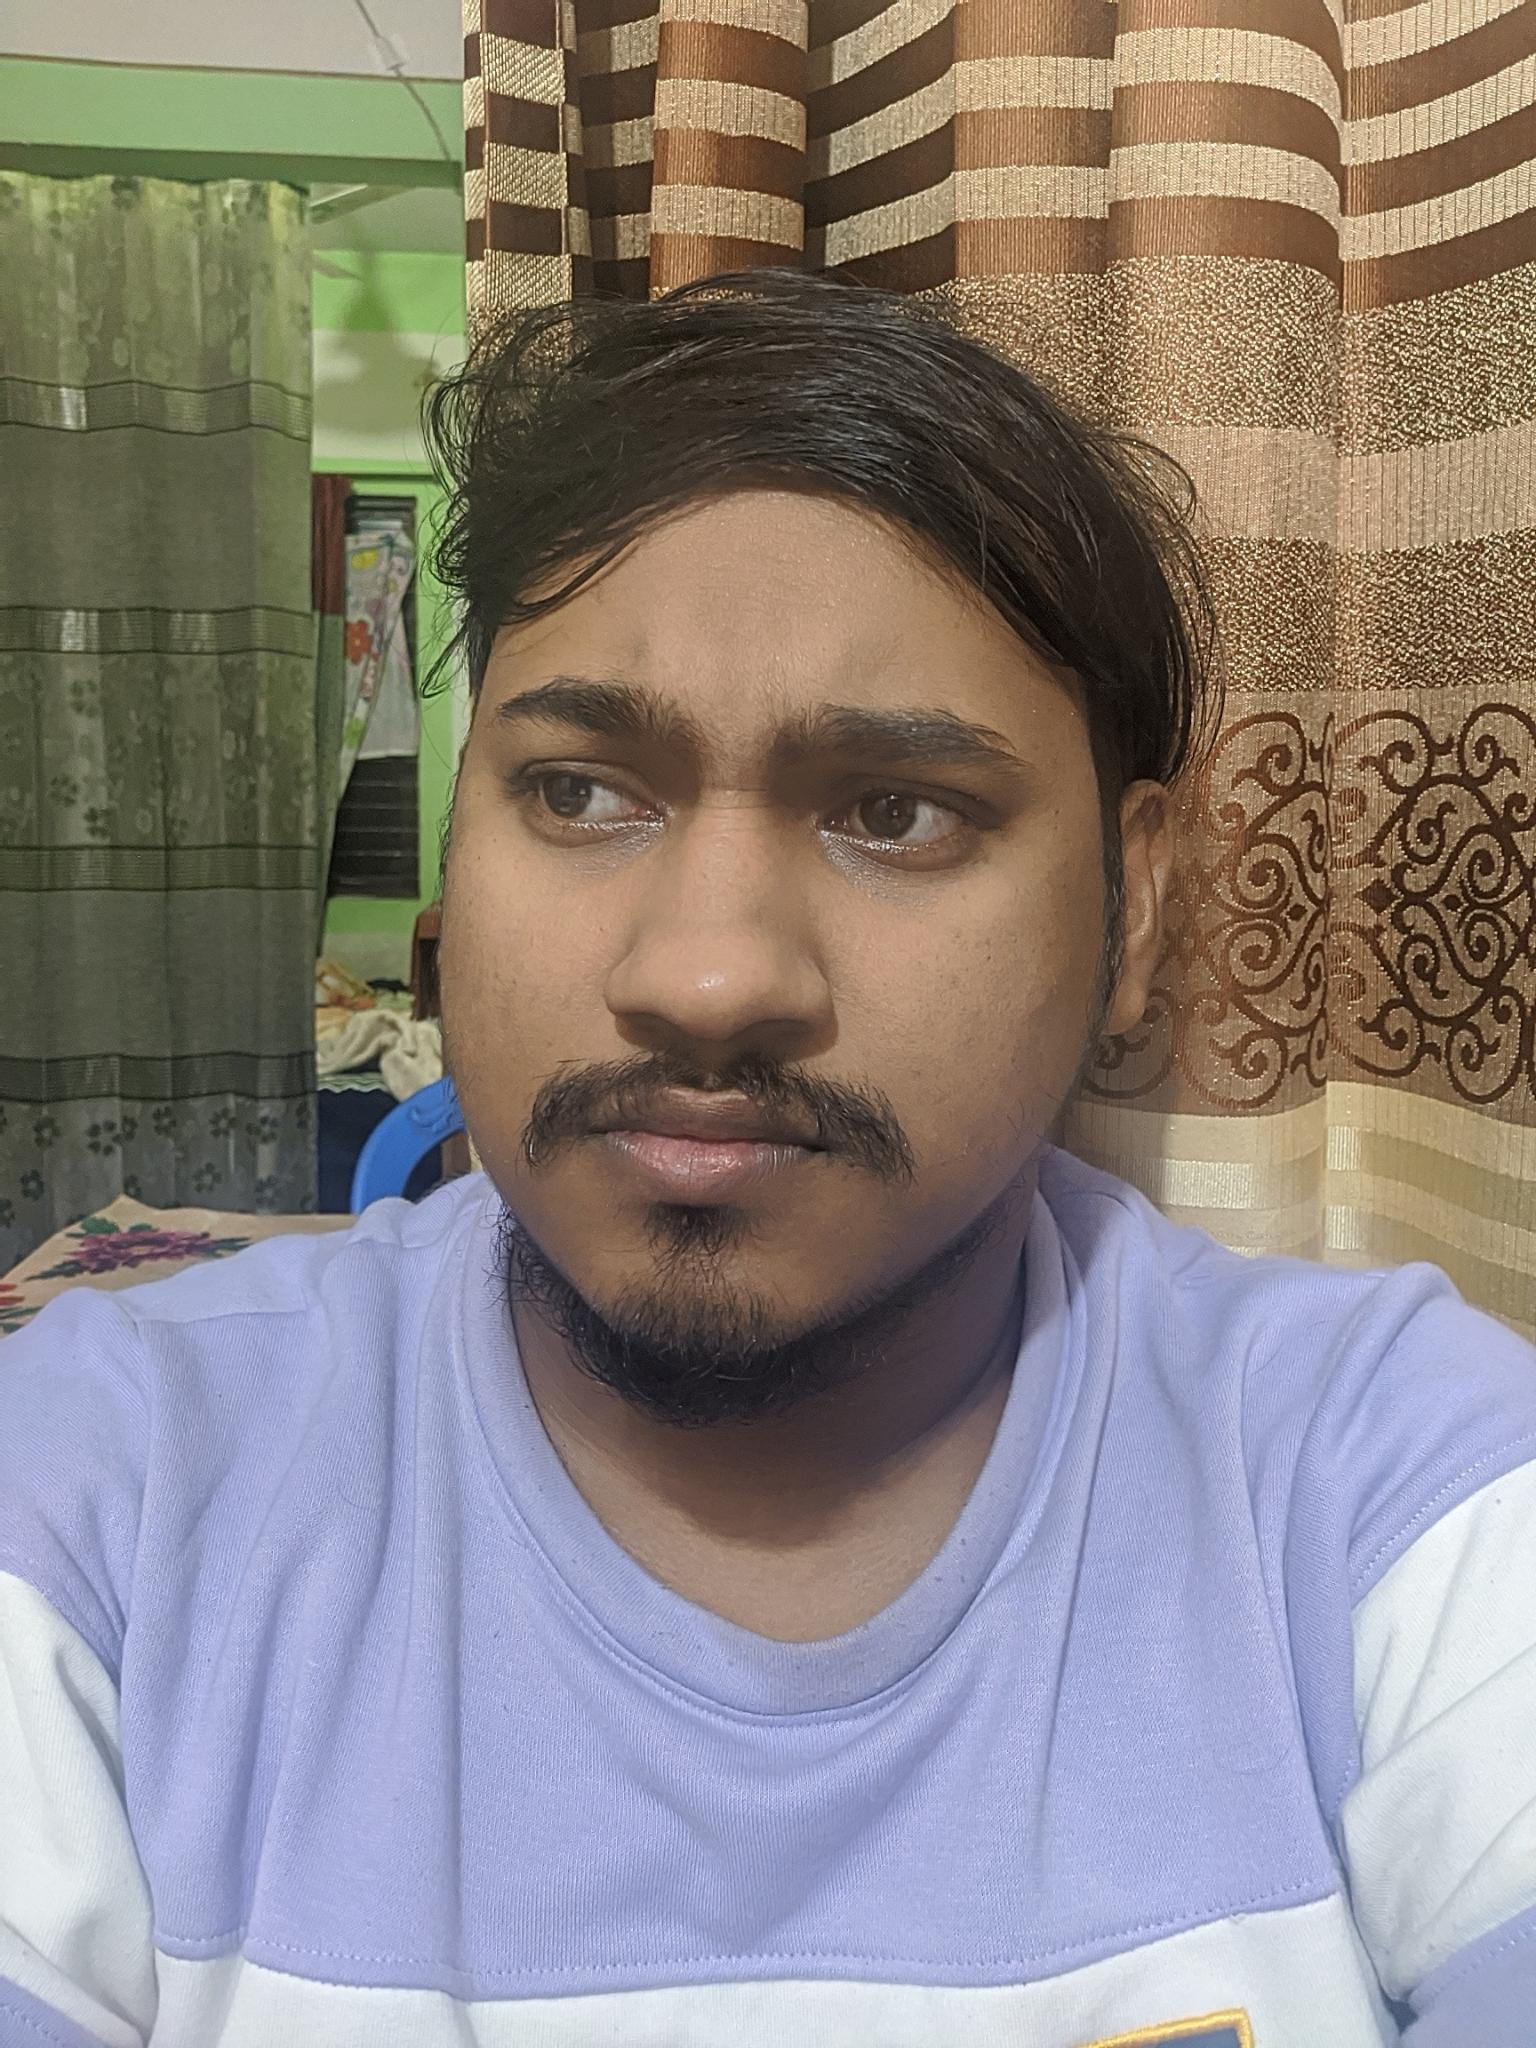Angry: (428, 589, 1063, 1358)
